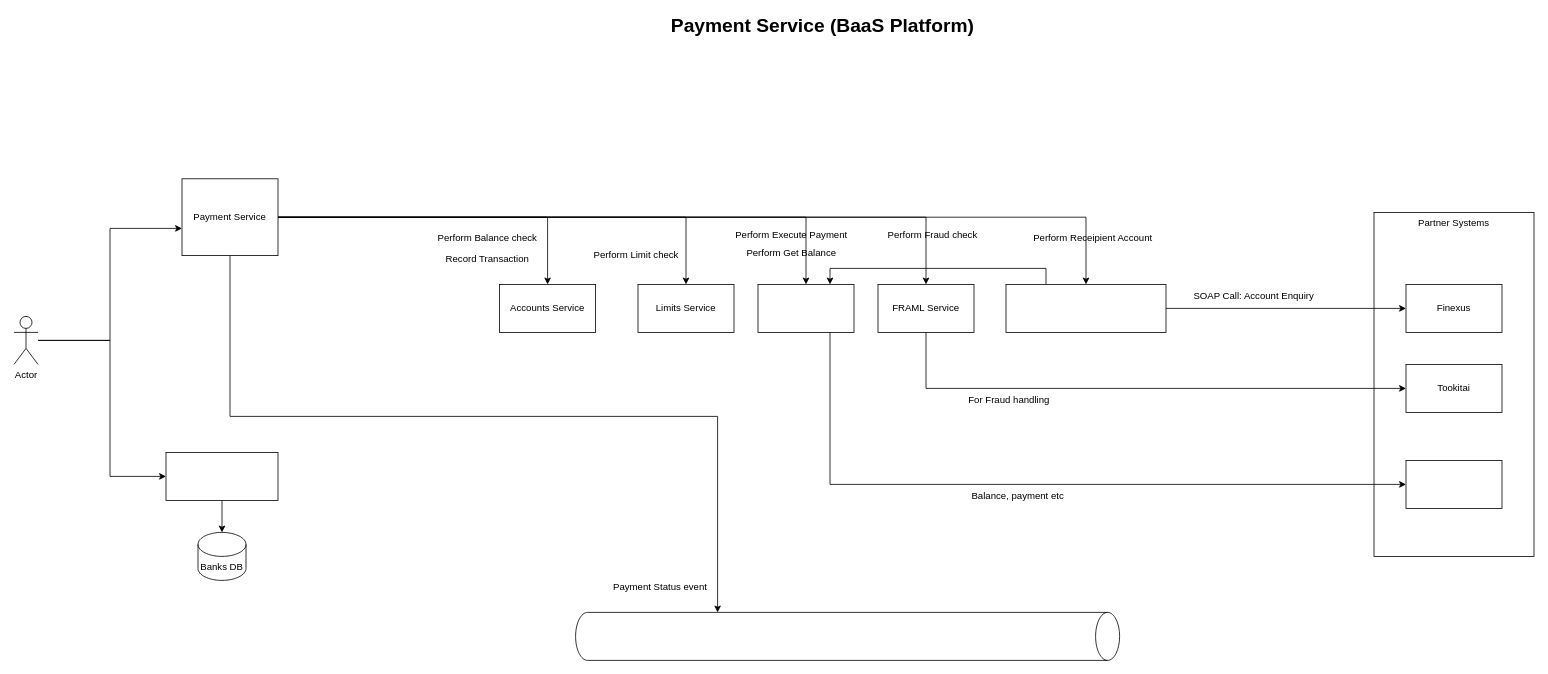
Image size: 1548x674. Some labels were removed from this diagram. The shapes that lost their labels are listed below. From the top down, each one's centre as x and y in pixels, then its label:
the point at 805,308: Banking Service
the point at 1085,308: InterbankPayment Service
the point at 221,476: BankInformationServiec
the point at 1453,484: Mambu
